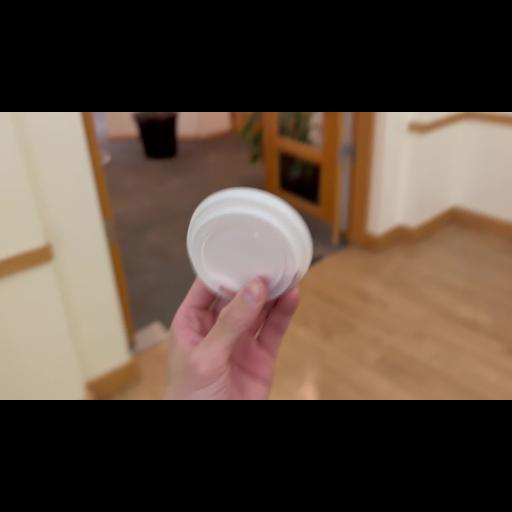lp_cup_lids: (171, 176, 319, 330)
